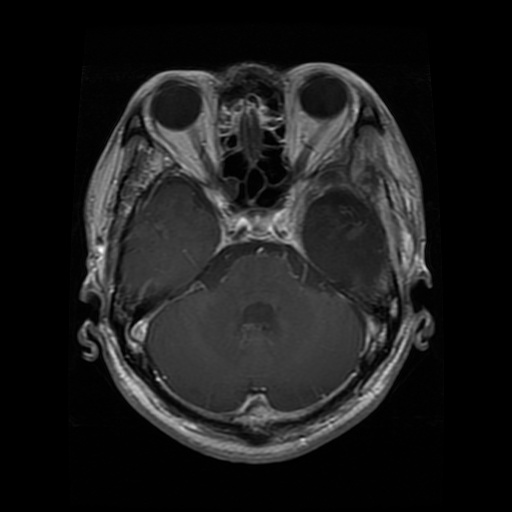glioma: (304, 189, 388, 308)
